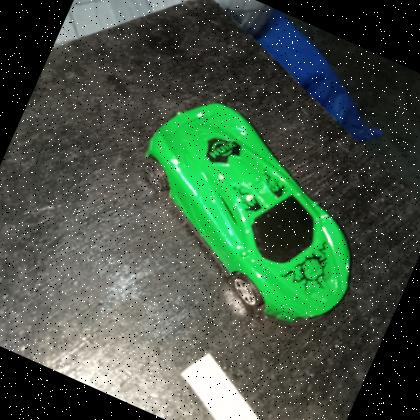Car: (100, 80, 398, 346)
